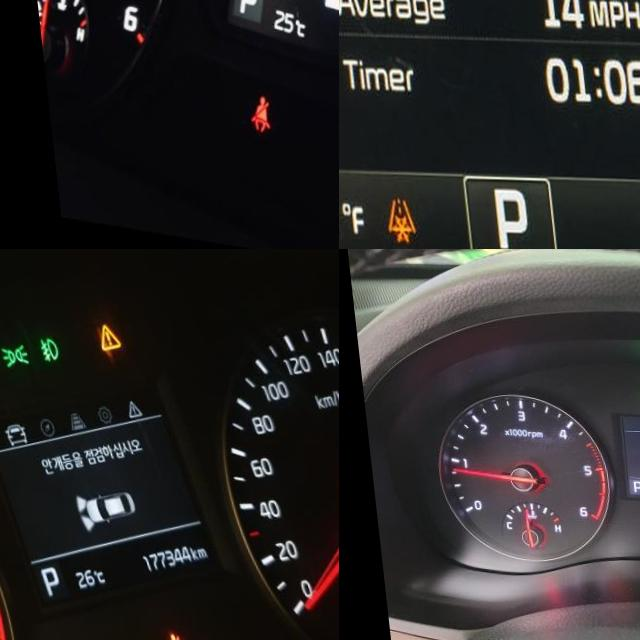Central Warning lamp: (86, 317, 116, 350)
FrontFogLight: (30, 333, 55, 360)
SideLamp: (0, 339, 23, 366), (636, 386, 640, 397)
